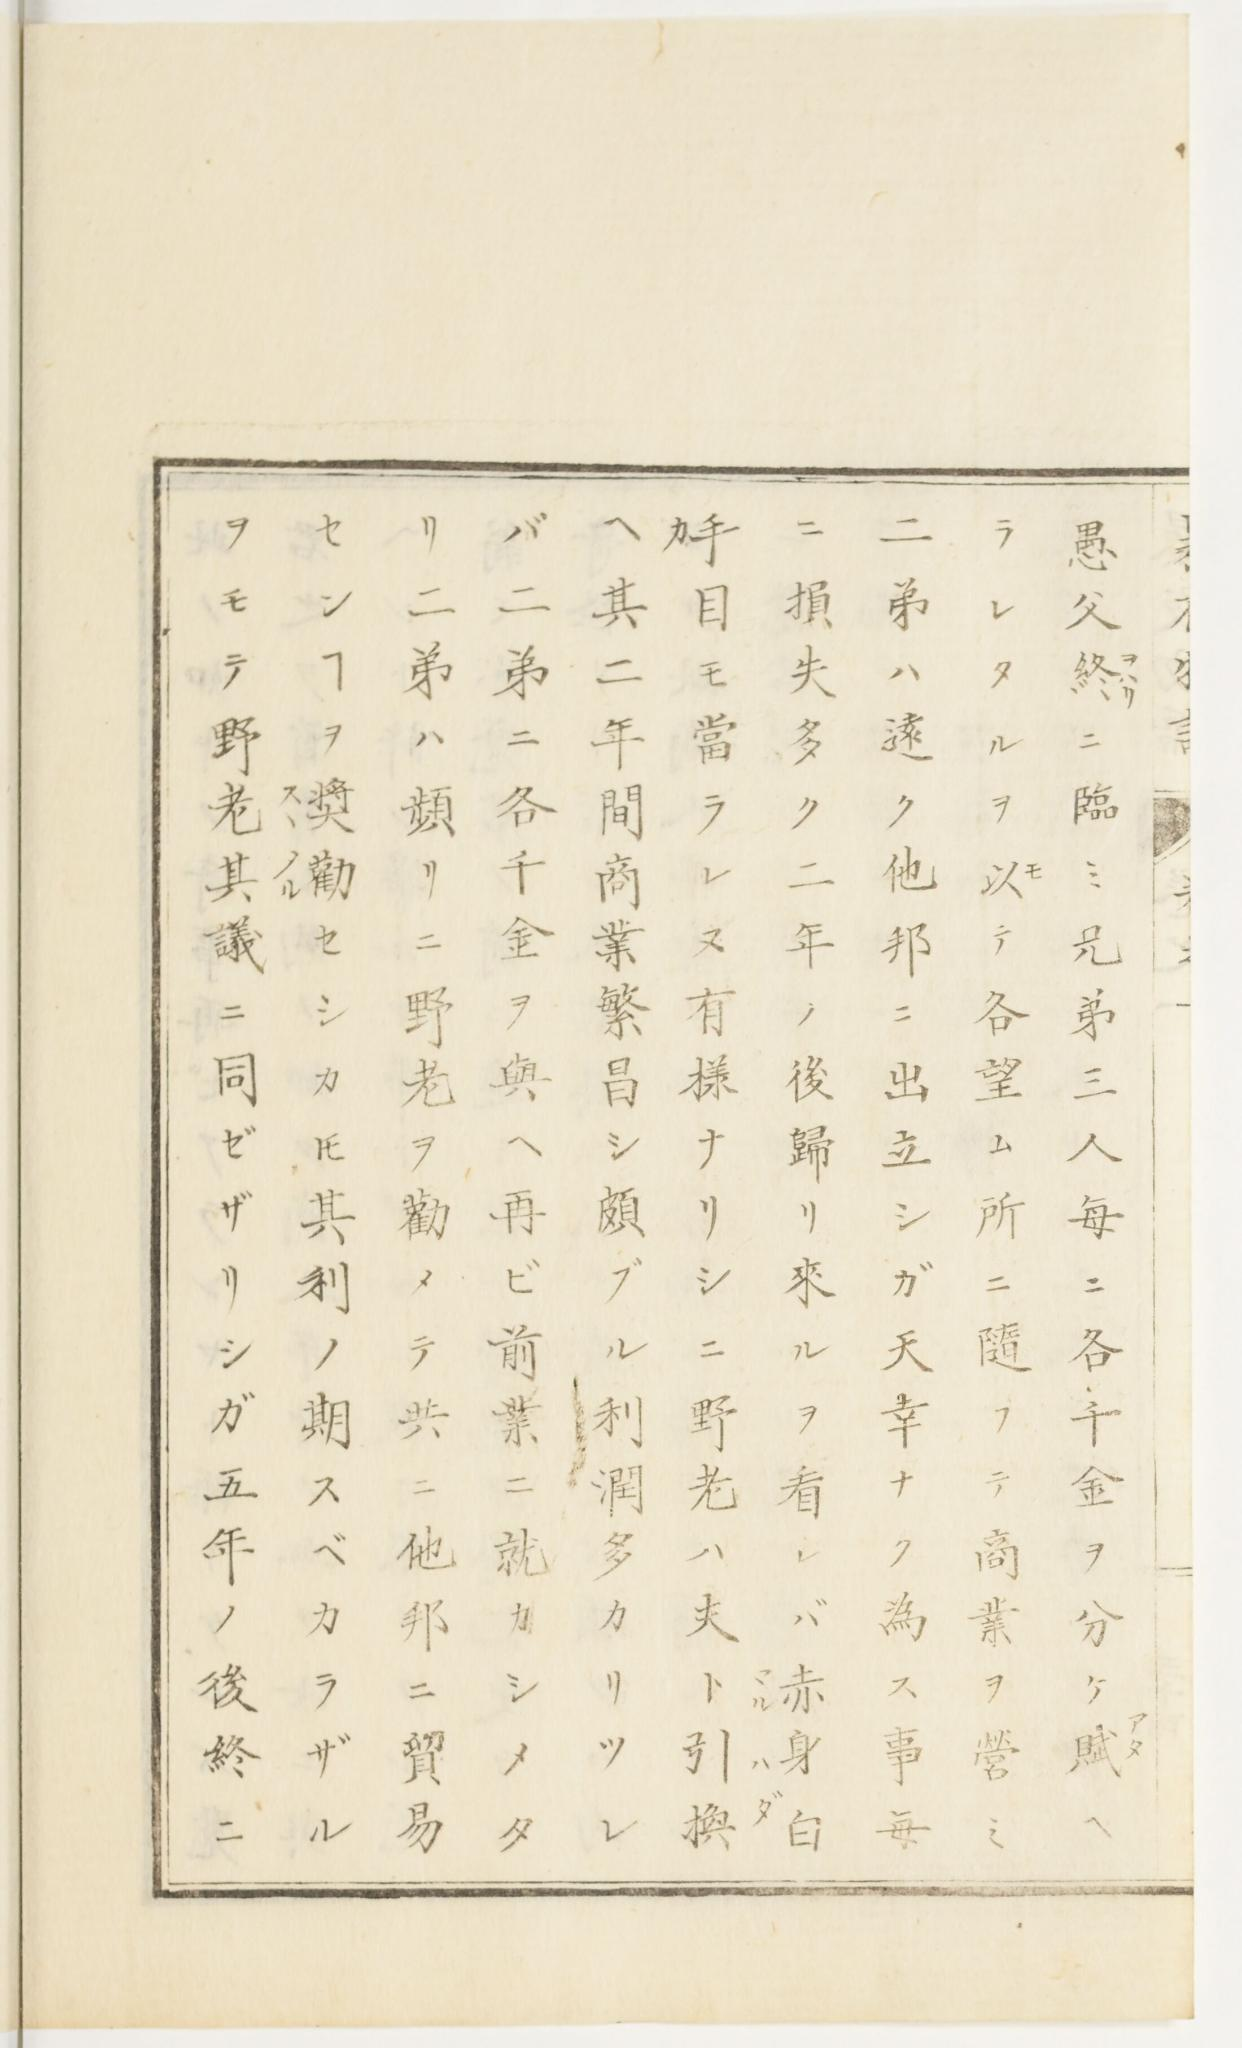MainZone-Character: (677, 1786, 790, 1862), (1062, 1709, 1164, 1785), (203, 775, 309, 843), (202, 848, 307, 906), (679, 1717, 772, 1779), (1065, 644, 1147, 708), (688, 1657, 777, 1716)
MainZone-Ruby: (271, 850, 307, 904), (1124, 1709, 1159, 1761), (1116, 647, 1145, 707), (748, 1785, 789, 1826), (748, 1665, 777, 1710), (278, 780, 300, 828), (745, 1748, 780, 1776)
